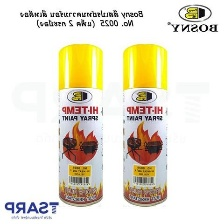aerosol_cans: (118, 39, 174, 210), (53, 40, 107, 210)
